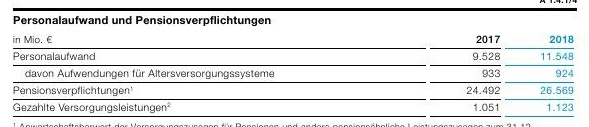table: (0, 0, 589, 127)
